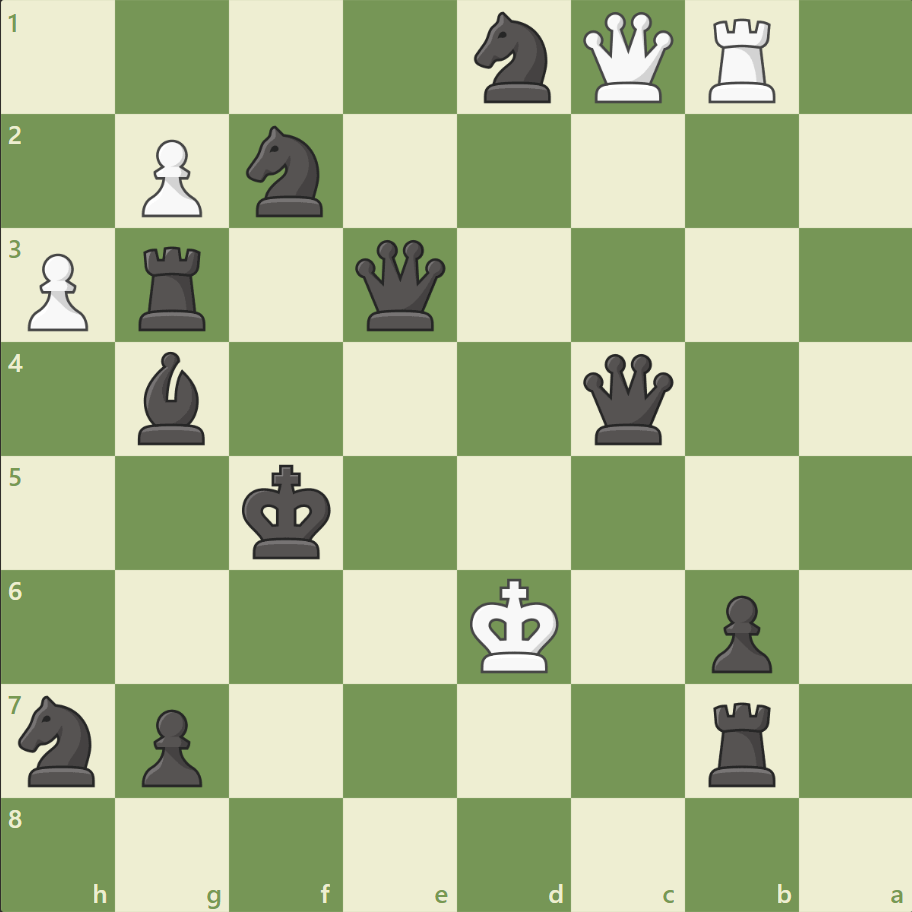K: (465, 571, 565, 679)
P: (20, 246, 95, 337), (133, 132, 208, 223)
Q: (578, 9, 677, 108)
R: (700, 12, 783, 109)
b: (131, 347, 215, 449)
k: (238, 458, 338, 566)
n: (11, 688, 108, 791), (465, 7, 562, 110), (238, 121, 335, 223)
p: (133, 700, 208, 791), (701, 586, 776, 677)
q: (578, 349, 677, 449), (351, 236, 450, 335)
r: (700, 693, 783, 790), (133, 239, 215, 336)
